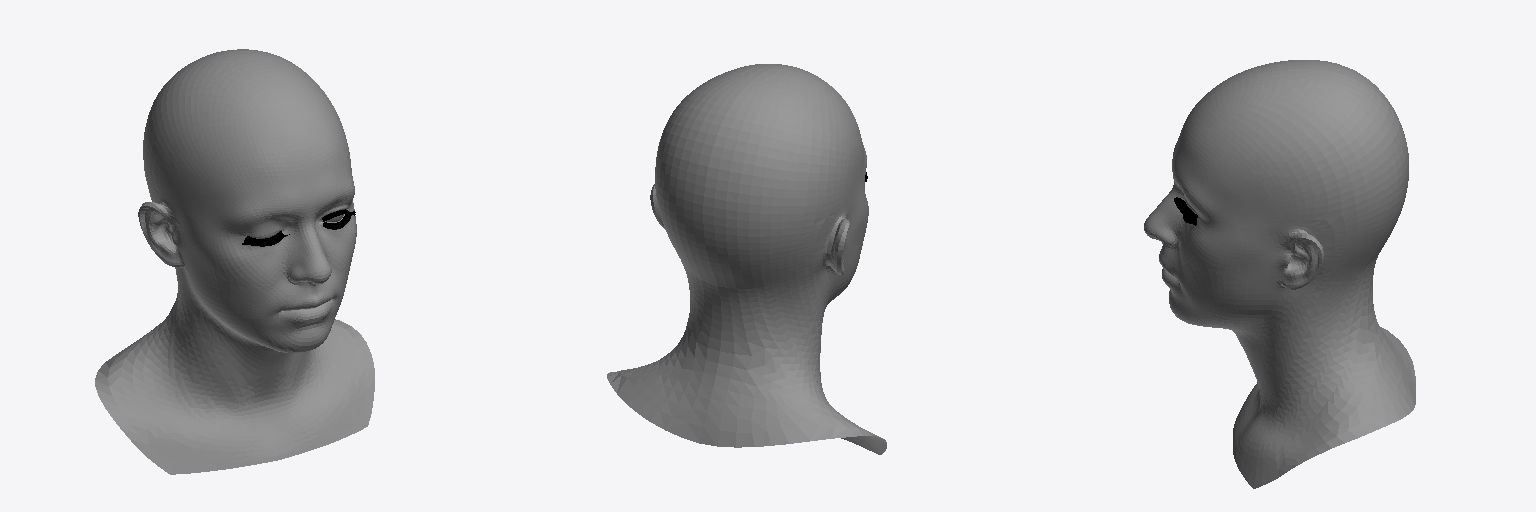
File: eyeBlink_R.obj
3 views of the same model, side by side, from view 1: azimuth 30°, elevation 25°; view 2: azimuth 150°, elevation 25°; view 3: azimuth 270°, elevation 25° (orthographic).
Size of the model in its own units: 24.83 by 33.81 by 22.32.